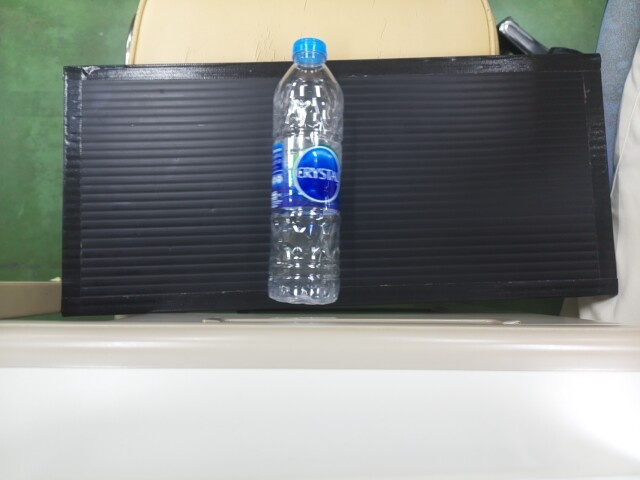plastic_bottle: (271, 42, 342, 305)
